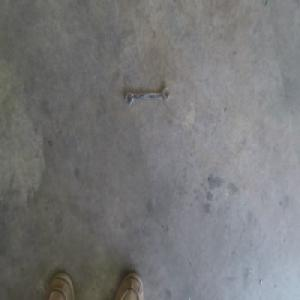Wrench: (124, 87, 170, 105)
